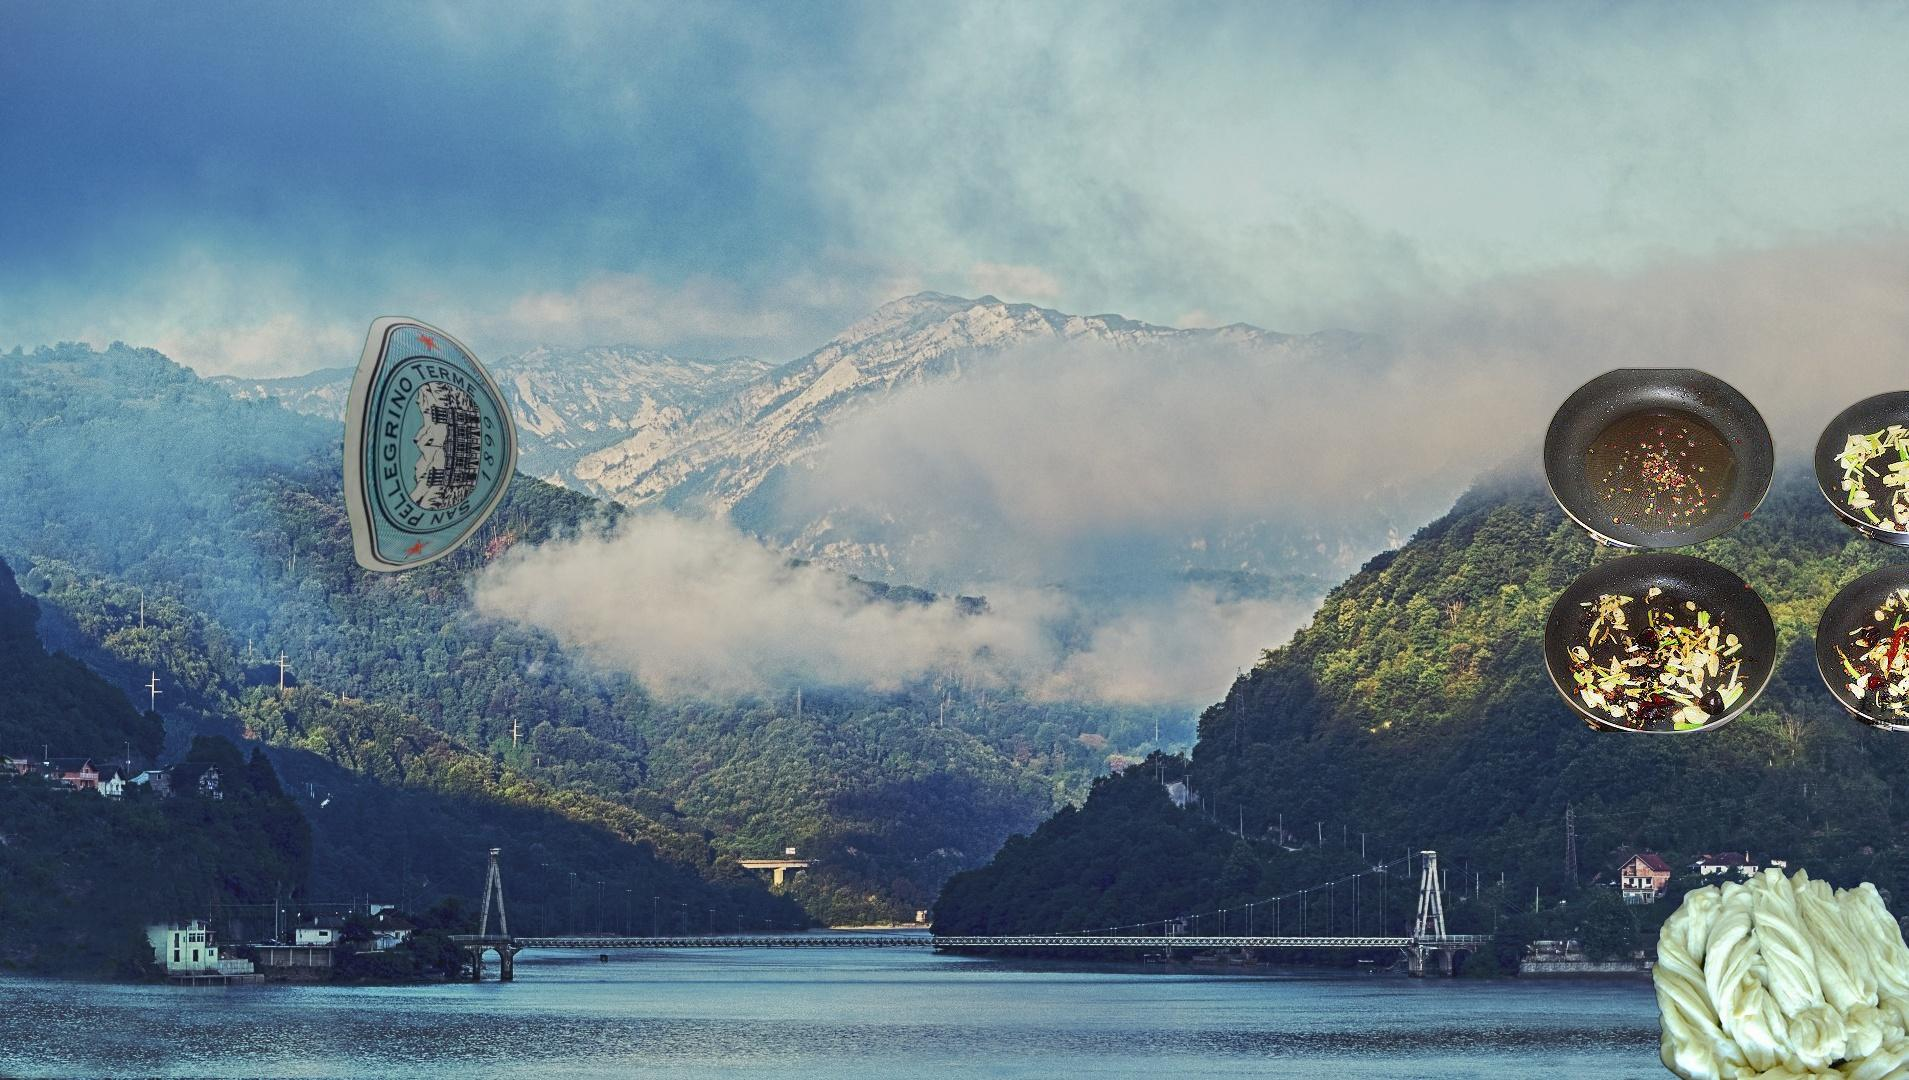biological: (1531, 367, 1909, 737), (1649, 868, 1909, 1080)
glass: (340, 315, 522, 575)
plastic-bottles: (1878, 1021, 1909, 1080)
